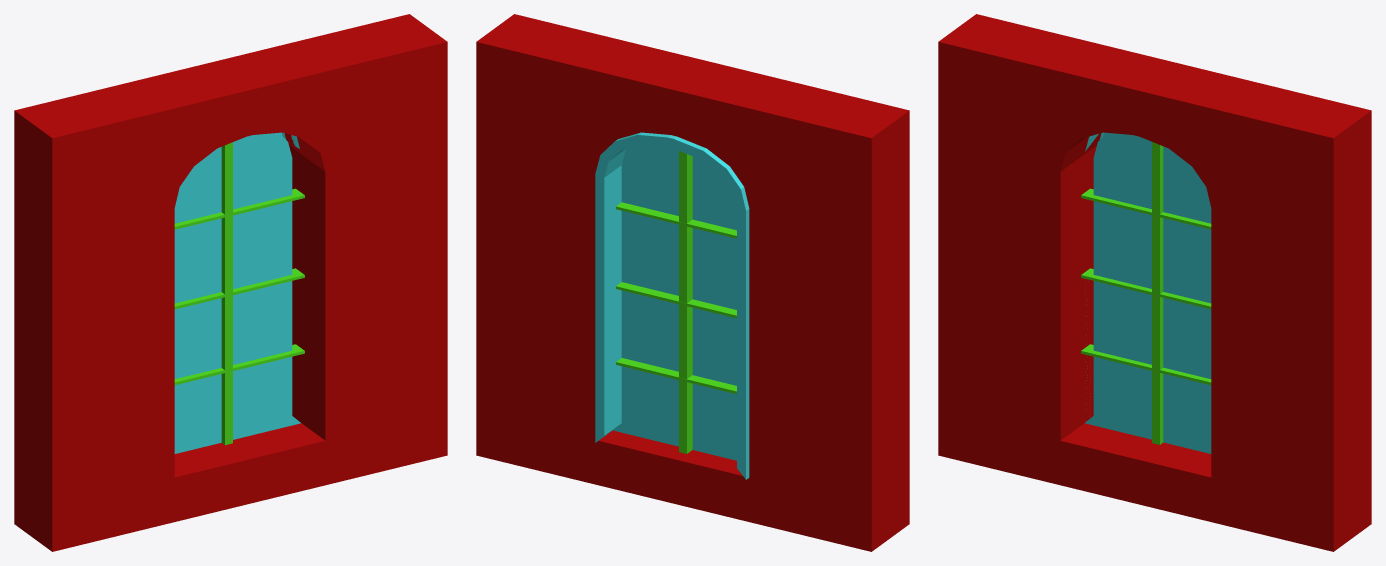
Rendered from MurWindow.fbx.
3 views of the same model, side by side, from view 1: azimuth 30°, elevation 25°; view 2: azimuth 150°, elevation 25°; view 3: azimuth 330°, elevation 25° (orthographic).
Visible parts, largest first — view 1: Mure; view 2: Mure; view 3: Mure.
Part boxes in pixels (box(x1,y1,x2,y2)): Mure: box(14, 14, 447, 551); Mure: box(476, 14, 909, 551); Mure: box(938, 14, 1371, 551).
Bounding box in the file's own units: 300 × 300 × 54.36.
